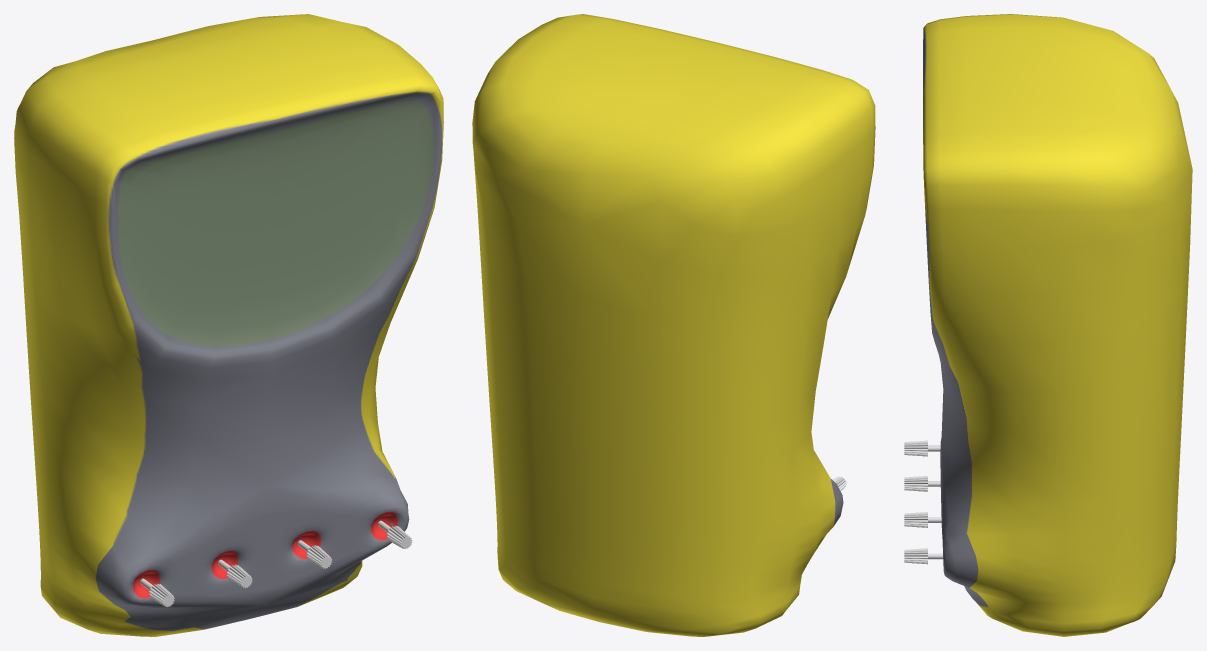
Rendered from wanyongbiao.FBX.
The picture shows the model from 3 angles, left to right: view 1: azimuth 30°, elevation 25°; view 2: azimuth 150°, elevation 25°; view 3: azimuth 270°, elevation 25°; orthographic projection. The views are drawn at different scales.
Visible parts, largest first — view 1: Box001; view 2: Box001; view 3: Box001.
Part boxes in pixels (x1=…): Box001: x1=14, y1=14, x2=443, y2=636; Box001: x1=472, y1=14, x2=875, y2=636; Box001: x1=923, y1=14, x2=1192, y2=636.
Size of the model in its own units: 80.57 by 119 by 60.87.
